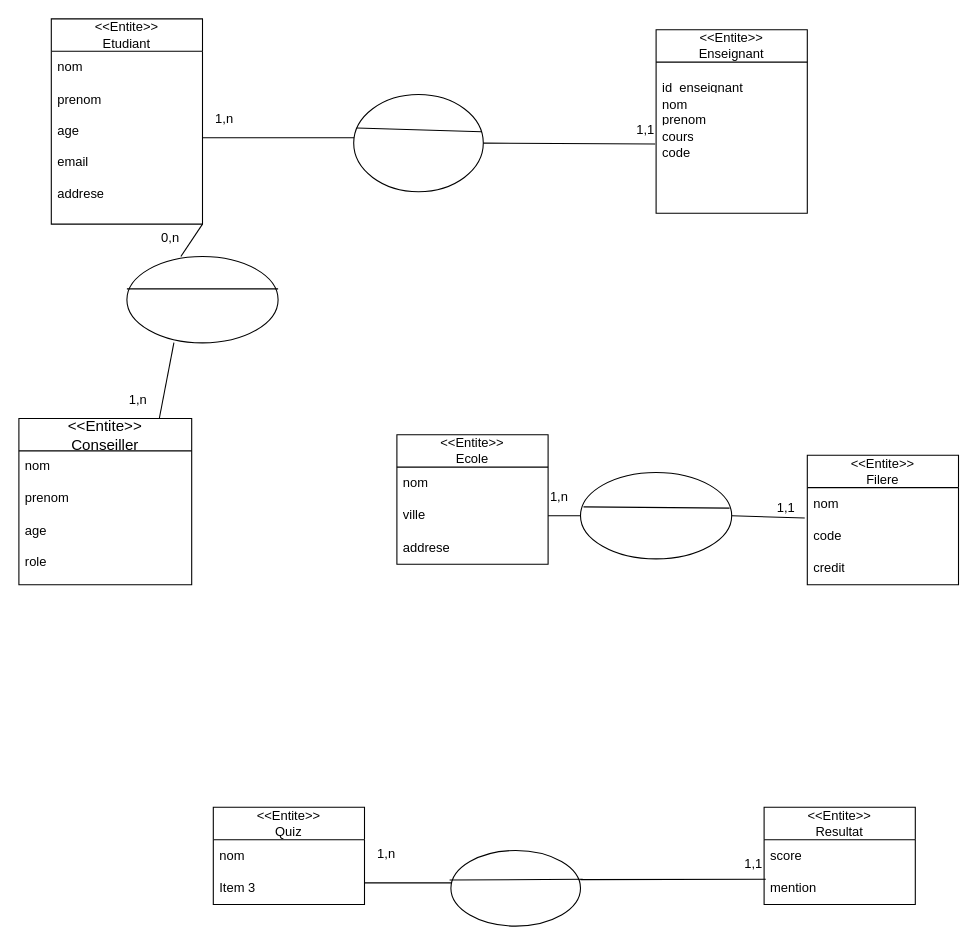
The diagram is 977 pixels wide and 945 high, and some of its shapes have lost their labels. The centre of each missing label's shape, as x and y in pixels:
"coacher id_coacher" belongs at [202,299].
"Eleve nom prenom" belongs at [655,515].
"Evenement nom" belongs at [515,887].
"Suivre id_suivre" belongs at [418,142].
